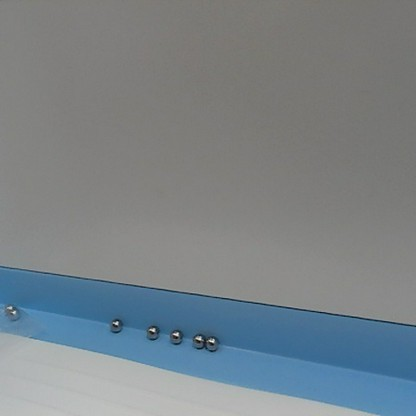ironball: (166, 325, 184, 346), (189, 329, 207, 349), (202, 331, 220, 351), (142, 322, 160, 340), (107, 317, 124, 335), (6, 307, 20, 322), (0, 299, 16, 311)
